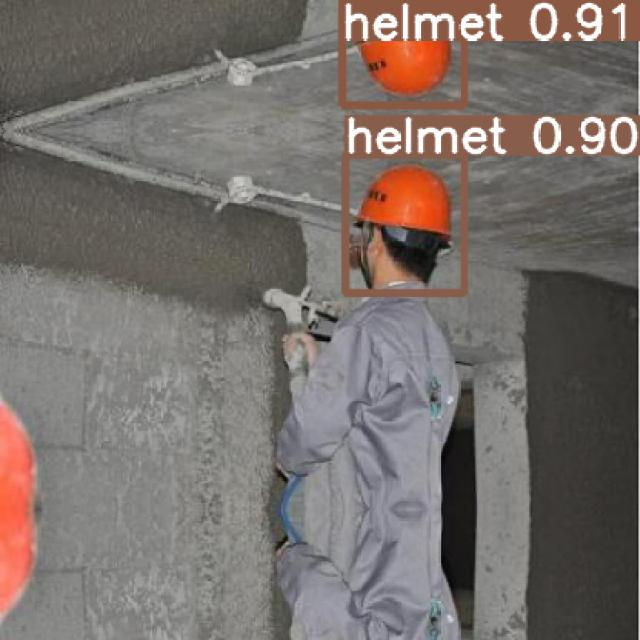Helmet: (354, 163, 452, 243)
